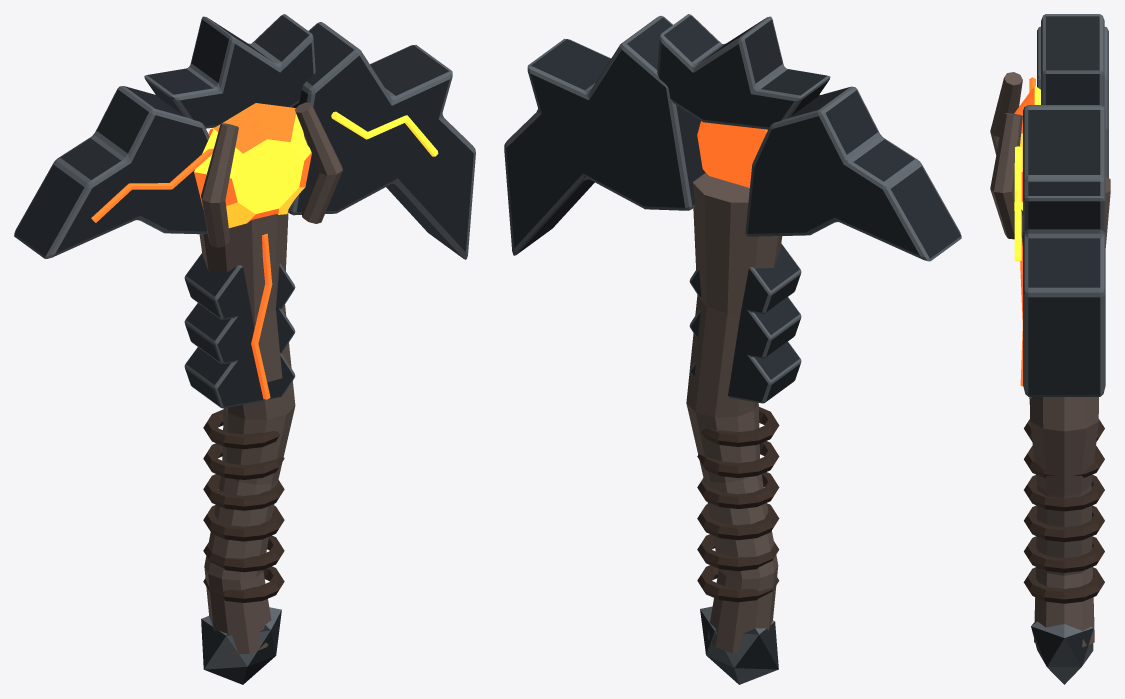
The model's file is BH_PICK_P12_Picareta_de_Magma_Profano_V02.glb.
3 renders of one model, left to right at view 1: azimuth 30°, elevation 25°; view 2: azimuth 150°, elevation 25°; view 3: azimuth 270°, elevation 25°, orthographic.
Parts seen in each view (by area): view 1: P12 | right obsidian claw.001, P12 | left broken horn.001, P12 | reinforced volcanic haft.001, P12 | upper furnace crown.001, P12 | furnace window.001, P12 | split neck plate.003, P12 | split neck plate.004, P12 | split neck plate.005, P12 | lava pommel.001, P12 | forged window guard.002, P12 | forged window guard.003, P12 | charred grip ridge.009 (+8 smaller); view 2: P12 | right obsidian claw.001, P12 | left broken horn.001, P12 | reinforced volcanic haft.001, P12 | upper furnace crown.001, P12 | furnace window.001, P12 | split neck plate.003, P12 | lava pommel.001, P12 | split neck plate.004, P12 | split neck plate.005, P12 | charred grip ridge.009, P12 | charred grip ridge.008, P12 | charred grip ridge.010 (+3 smaller); view 3: P12 | right obsidian claw.001, P12 | reinforced volcanic haft.001, P12 | upper furnace crown.001, P12 | lava pommel.001, P12 | forged window guard.003, P12 | charred grip ridge.007, P12 | charred grip ridge.008, P12 | charred grip ridge.006, P12 | charred grip ridge.009, P12 | forged window guard.002, P12 | left broken horn.001, P12 | right molten fissure.001 (+3 smaller).
Boxes of the visible parts, box(x1,y1,x2,y2) form: P12 | right obsidian claw.001: box(288, 22, 475, 259); P12 | left broken horn.001: box(14, 86, 209, 258); P12 | reinforced volcanic haft.001: box(199, 213, 295, 654); P12 | upper furnace crown.001: box(144, 14, 315, 128); P12 | furnace window.001: box(194, 103, 311, 228); P12 | split neck plate.003: box(184, 347, 295, 408); P12 | split neck plate.004: box(184, 303, 295, 363); P12 | split neck plate.005: box(184, 253, 295, 319); P12 | lava pommel.001: box(201, 607, 281, 684); P12 | forged window guard.002: box(201, 123, 238, 247); P12 | forged window guard.003: box(295, 102, 342, 223); P12 | charred grip ridge.009: box(203, 474, 284, 510); P12 | right obsidian claw.001: box(504, 15, 705, 255); P12 | left broken horn.001: box(745, 86, 961, 261); P12 | reinforced volcanic haft.001: box(686, 173, 782, 653); P12 | upper furnace crown.001: box(657, 14, 830, 129); P12 | furnace window.001: box(697, 121, 767, 187); P12 | split neck plate.003: box(689, 341, 801, 403); P12 | lava pommel.001: box(700, 606, 778, 684); P12 | split neck plate.004: box(689, 297, 801, 358); P12 | split neck plate.005: box(689, 243, 801, 313); P12 | charred grip ridge.009: box(697, 472, 779, 508); P12 | charred grip ridge.008: box(697, 503, 779, 540); P12 | charred grip ridge.010: box(697, 441, 779, 477); P12 | right obsidian claw.001: box(1023, 105, 1105, 396); P12 | reinforced volcanic haft.001: box(1021, 177, 1110, 647); P12 | upper furnace crown.001: box(1041, 14, 1104, 106); P12 | lava pommel.001: box(1031, 621, 1093, 684); P12 | forged window guard.003: box(990, 113, 1022, 239); P12 | charred grip ridge.007: box(1024, 536, 1104, 572); P12 | charred grip ridge.008: box(1024, 505, 1104, 542); P12 | charred grip ridge.006: box(1023, 567, 1104, 603); P12 | charred grip ridge.009: box(1024, 475, 1104, 511); P12 | forged window guard.002: box(990, 72, 1022, 154); P12 | left broken horn.001: box(1037, 26, 1108, 177); P12 | right molten fissure.001: box(1014, 146, 1021, 261).
Bounding box in the file's own units: 2.31 × 3.44 × 0.5687.
